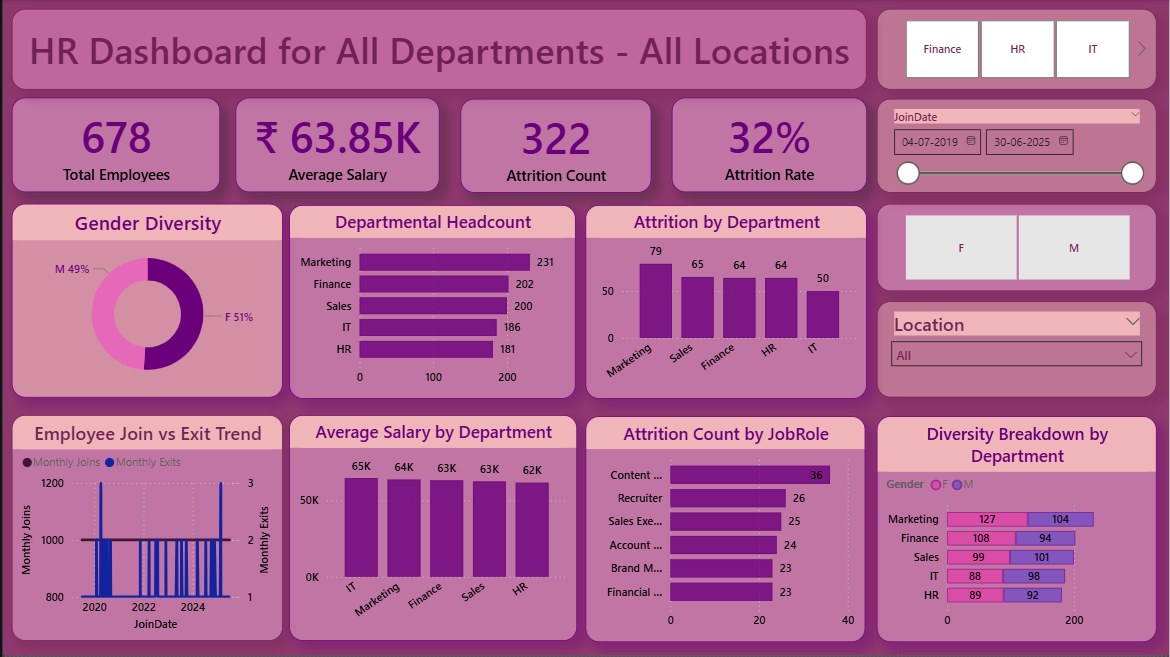

Layout of this report page (visuals, bound fields, positions):
{"tool":"powerbi","page":{"name":"Page 1","canvas":[1280,720],"ordinal":0},"visuals":[{"type":"card","fields":{"Values":["EmployeeData.Total Employees"]},"box":[9.6,107,229.2,104.3],"z":0},{"type":"card","fields":{"Values":["EmployeeData.Attrition Count"]},"box":[502.2,108.4,209.9,102.9],"z":1000},{"type":"card","fields":{"Values":["EmployeeData.Attrition Rate"]},"box":[734.1,107,214.1,104.3],"z":2000},{"type":"card","fields":{"Values":["EmployeeData.Average Salary"]},"box":[255.2,107,223.7,104.3],"z":3000},{"type":"donutChart","title":"Gender Diversity","fields":{"Category":["EmployeeData.Gender"],"Y":["CountNonNull(EmployeeData.EmpID)"]},"box":[9.6,223.7,297.8,212.7],"z":4000},{"type":"clusteredBarChart","title":"Departmental Headcount","fields":{"Category":["EmployeeData.Department"],"Y":["CountNonNull(EmployeeData.EmpID)"]},"box":[314.2,225,314.2,212.7],"z":5000},{"type":"lineChart","title":"Employee Join vs Exit Trend","fields":{"Y":["EmployeeData.Monthly Joins"],"Category":["EmployeeData.JoinDate"],"Y2":["EmployeeData.Monthly Exits"]},"box":[9.6,455.6,297.8,248.4],"z":6000},{"type":"slicer","fields":{"Values":["EmployeeData.Gender"]},"box":[959.2,223.7,307.4,96.1],"z":7000},{"type":"slicer","fields":{"Values":["EmployeeData.Department"]},"box":[959.2,9.6,307.4,89.2],"z":8000},{"type":"slicer","fields":{"Values":["EmployeeData.Location"]},"box":[959.2,330.7,307.4,105.7],"z":9000},{"type":"slicer","fields":{"Values":["EmployeeData.JoinDate"]},"box":[959.2,108.4,307.4,102.9],"z":10000},{"type":"card","fields":{"Values":["EmployeeData.Dashboard Title"]},"box":[9.6,9.6,938.6,89.2],"z":11000},{"type":"columnChart","title":"Attrition by Department","fields":{"Category":["EmployeeData.Department"],"Y":["EmployeeData.Attrition Count"]},"box":[639.5,225,308.7,212.7],"z":12000},{"type":"clusteredColumnChart","title":"Average Salary by Department","fields":{"Y":["Avg(EmployeeData.Salary)"],"Category":["EmployeeData.Department"]},"box":[314.2,455.6,315.6,248.4],"z":13000},{"type":"barChart","title":"Attrition Count by JobRole","fields":{"Y":["EmployeeData.Attrition Count"],"Category":["EmployeeData.JobRole"]},"box":[639.5,456.9,307.4,248.4],"z":13001},{"type":"barChart","title":"Diversity Breakdown by Department","fields":{"Category":["EmployeeData.Department"],"Series":["EmployeeData.Gender"],"Y":["CountNonNull(EmployeeData.EmpID)"]},"box":[959,457,307,248],"z":13002}]}

Visuals, with their boxes in screenshot pixels (x1, y1, x2, y2), scaled from the page's 1280x720 canvas onto the 1170x657 screenshot:
card - EmployeeData.Total Employees: [9,98,218,193]
card - EmployeeData.Attrition Count: [459,99,651,193]
card - EmployeeData.Attrition Rate: [671,98,867,193]
card - EmployeeData.Average Salary: [233,98,438,193]
"Gender Diversity" donutChart: [9,204,281,398]
"Departmental Headcount" clusteredBarChart: [287,205,574,399]
"Employee Join vs Exit Trend" lineChart: [9,416,281,642]
slicer - EmployeeData.Gender: [877,204,1158,292]
slicer - EmployeeData.Department: [877,9,1158,90]
slicer - EmployeeData.Location: [877,302,1158,398]
slicer - EmployeeData.JoinDate: [877,99,1158,193]
card - EmployeeData.Dashboard Title: [9,9,867,90]
"Attrition by Department" columnChart: [585,205,867,399]
"Average Salary by Department" clusteredColumnChart: [287,416,576,642]
"Attrition Count by JobRole" barChart: [585,417,866,644]
"Diversity Breakdown by Department" barChart: [877,417,1157,643]
